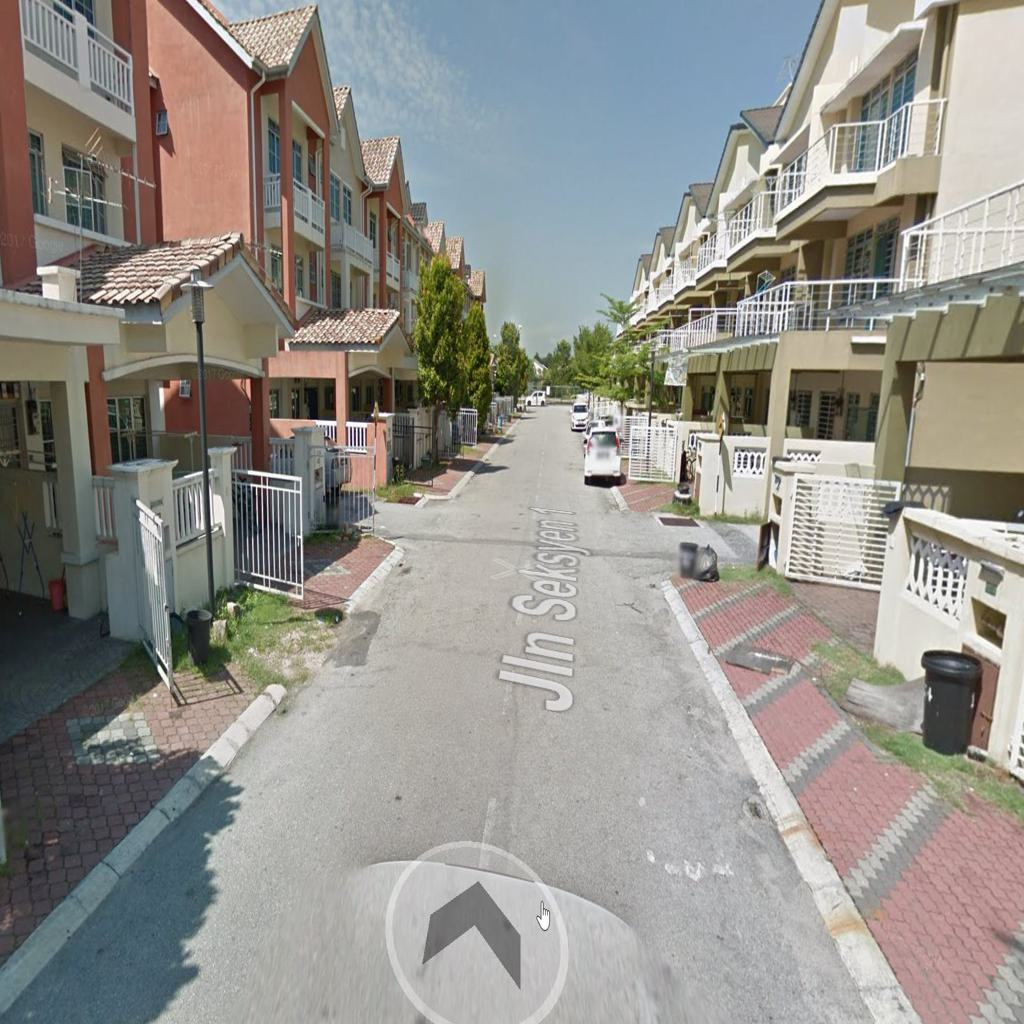Junction: (601, 483, 766, 594), (334, 464, 460, 574)
